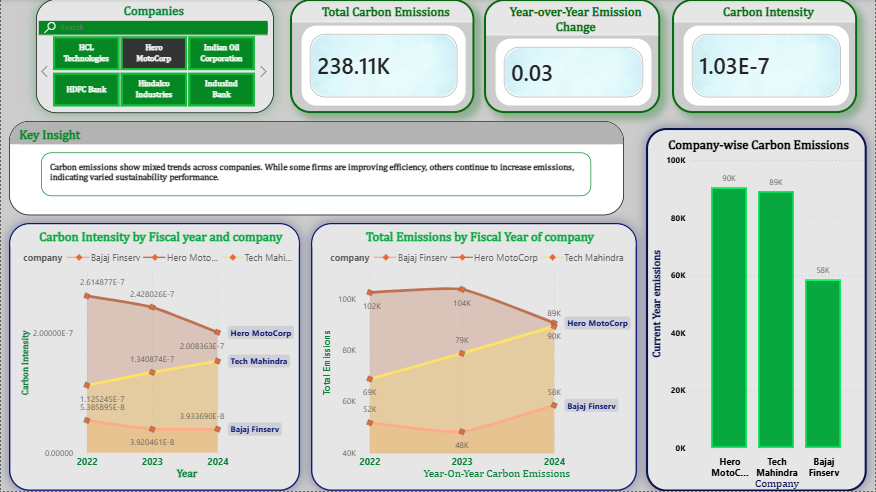

What the dashboard file says about the page in this screenshot:
{"tool":"powerbi","page":{"name":"Carbon Performance","canvas":[1280,720],"ordinal":3},"visuals":[{"type":"lineChart","title":"Total Emissions by Fiscal Year of company","fields":{"Category":["carbon_performances.reporting_year"],"Y":["carbon_performances.Total Emissions"],"Series":["carbon_performances.company"]},"box":[453.7,328,476.7,392.4],"z":0},{"type":"lineChart","title":"Carbon Intensity by Fiscal year and company","fields":{"Category":["carbon_performances.reporting_year"],"Series":["carbon_performances.company"],"Y":["carbon_performances.Carbon Intensity"]},"box":[12.3,328,426.2,392.4],"z":1},{"type":"slicer","title":"Companies","fields":{"Values":["Carbon performance.company"]},"box":[50.6,0,348,167.1],"z":2},{"type":"cardVisual","title":"Total Carbon Emissions","fields":{"Data":["Carbon performance.Current yr Emissions"]},"box":[423.1,0,269.8,167.1],"z":3},{"type":"cardVisual","title":"Year-over-Year Emission Change","fields":{"Data":["Carbon performance.trend Change %"]},"box":[706.7,0,257.5,167.1],"z":4},{"type":"cardVisual","title":"Carbon Intensity","fields":{"Data":["carbon_performances.Carbon Intensity"]},"box":[982.6,0,271.3,167.1],"z":5},{"type":"cardVisual","title":"Key Insight","fields":{"Data":["Carbon performance.Dynamic Insight"]},"box":[12.3,177.8,899.8,138],"z":6},{"type":"clusteredColumnChart","title":"Company-wise Carbon Emissions","fields":{"Category":["Carbon performance.company"],"Y":["Carbon performance.Latest Emissions Only"]},"box":[944.3,188.6,323.4,531.9],"z":7}]}

Visuals, with their boxes in screenshot pixels (x1, y1, x2, y2), scaled from the page's 1280x720 canvas onto the 876x492 screenshot:
"Total Emissions by Fiscal Year of company" lineChart: pyautogui.locateOnScreen(311, 224, 637, 491)
"Carbon Intensity by Fiscal year and company" lineChart: pyautogui.locateOnScreen(8, 224, 300, 491)
"Companies" slicer: pyautogui.locateOnScreen(35, 0, 273, 114)
"Total Carbon Emissions" cardVisual: pyautogui.locateOnScreen(290, 0, 474, 114)
"Year-over-Year Emission Change" cardVisual: pyautogui.locateOnScreen(484, 0, 660, 114)
"Carbon Intensity" cardVisual: pyautogui.locateOnScreen(672, 0, 858, 114)
"Key Insight" cardVisual: pyautogui.locateOnScreen(8, 121, 624, 216)
"Company-wise Carbon Emissions" clusteredColumnChart: pyautogui.locateOnScreen(646, 129, 868, 491)
